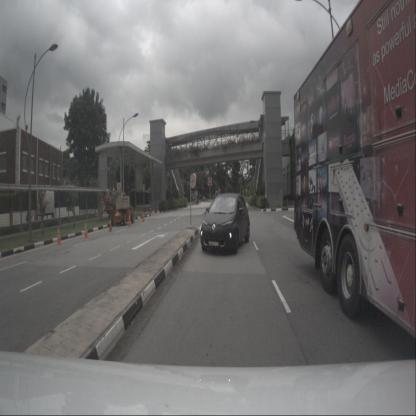movable_object-trafficcone: (56, 226, 62, 245), (84, 222, 89, 238), (109, 218, 113, 232), (128, 214, 132, 226), (142, 213, 145, 222)
vehicle-car: (200, 192, 250, 254)
